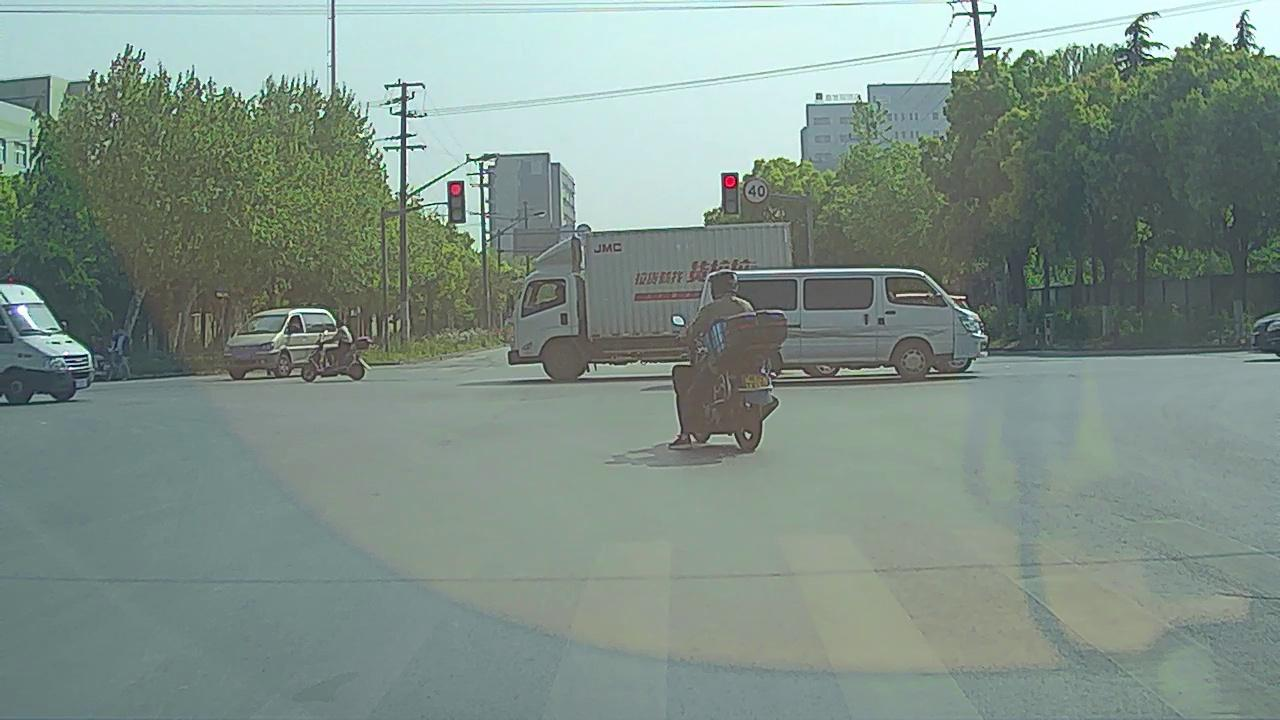traffic_light: (448, 180, 464, 222), (723, 173, 739, 214)
